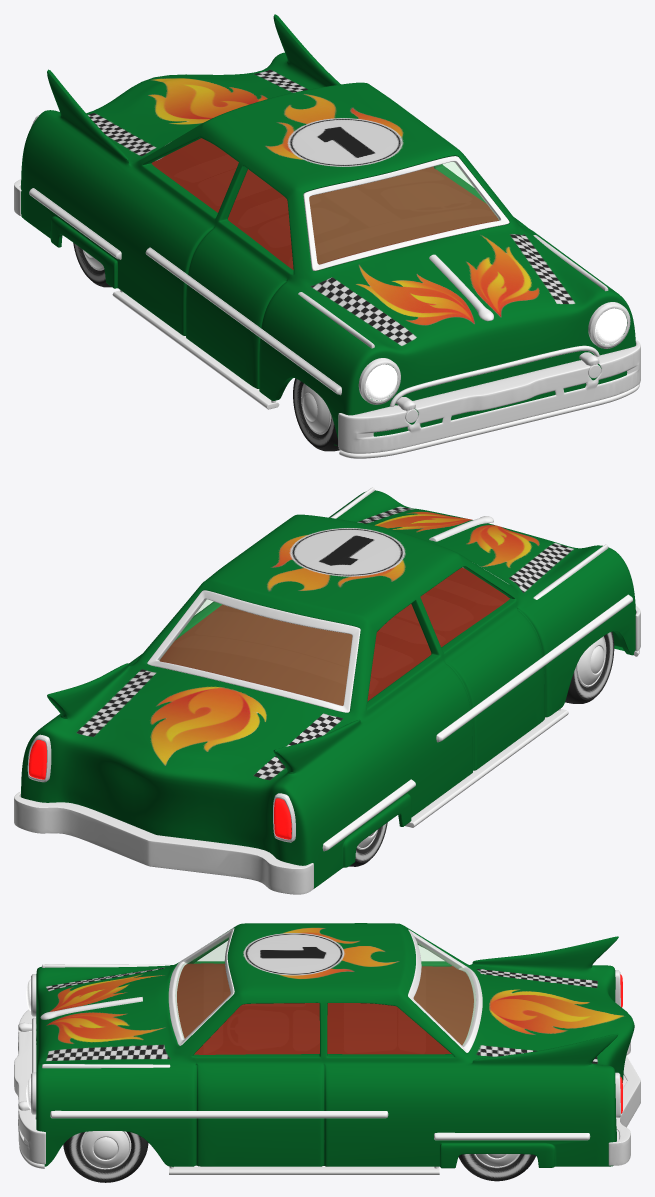
The model's file is toy_car.gltf.
3 views of the same model, one above another, from view 1: azimuth 30°, elevation 25°; view 2: azimuth 150°, elevation 25°; view 3: azimuth 270°, elevation 25° (orthographic). The views are drawn at different scales.
Parts seen in each view (by area): view 1: ToyCar, Glass; view 2: ToyCar, Glass; view 3: ToyCar, Glass.
Part boxes in pixels (x1=…): ToyCar: x1=14, y1=14, x2=640, y2=458; Glass: x1=309, y1=162, x2=499, y2=263; ToyCar: x1=14, y1=487, x2=640, y2=894; Glass: x1=159, y1=599, x2=351, y2=705; ToyCar: x1=14, y1=923, x2=640, y2=1182; Glass: x1=175, y1=935, x2=475, y2=1045.
Size of the model in its own units: 0.4396 by 0.2732 by 0.9019.
Materials: 2 (1 with a texture image).
